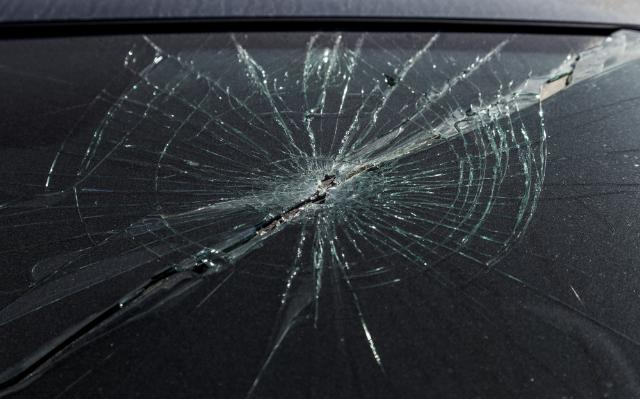glass shatter: (0, 17, 640, 399)
